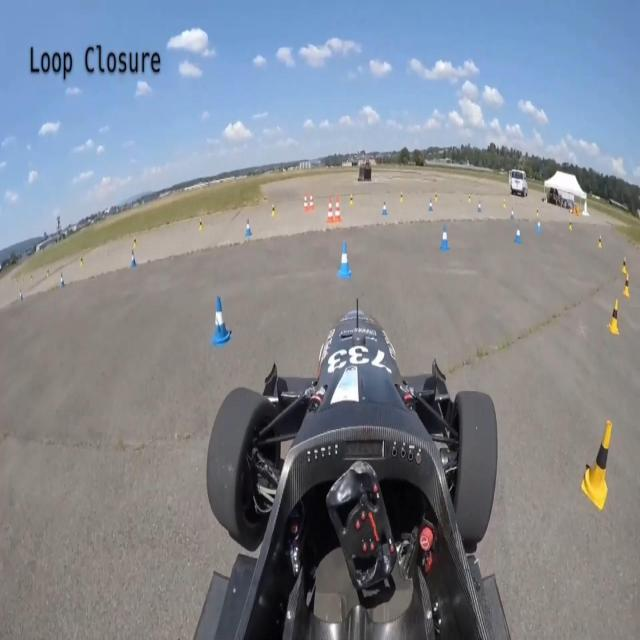blue_cone: (207, 292, 230, 346), (335, 242, 357, 284), (438, 220, 457, 264), (513, 219, 526, 253)
yellow_cone: (580, 416, 610, 513), (606, 295, 620, 340)
